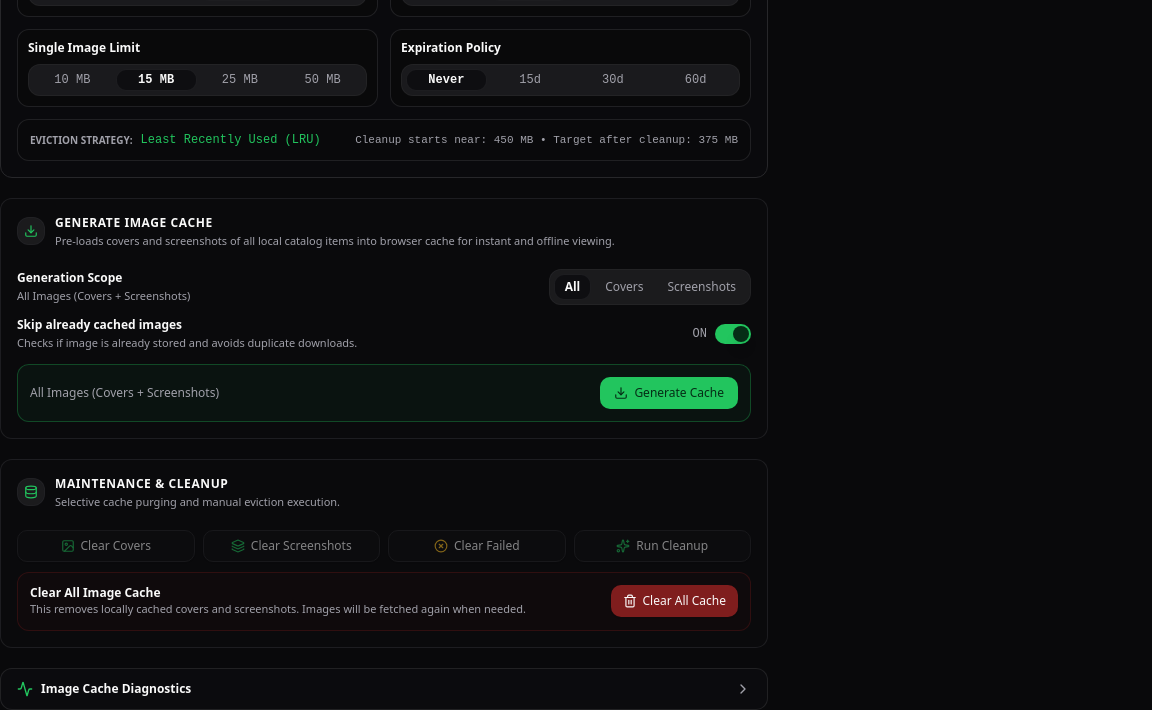
Test case: ImageSettings integration tests (V3-16) › opens confirmation dialog when clicking Clear All Cache
(page scrolled)
Click the button "Clear All Cache".
click(674, 601)  # box [610, 585, 738, 617]
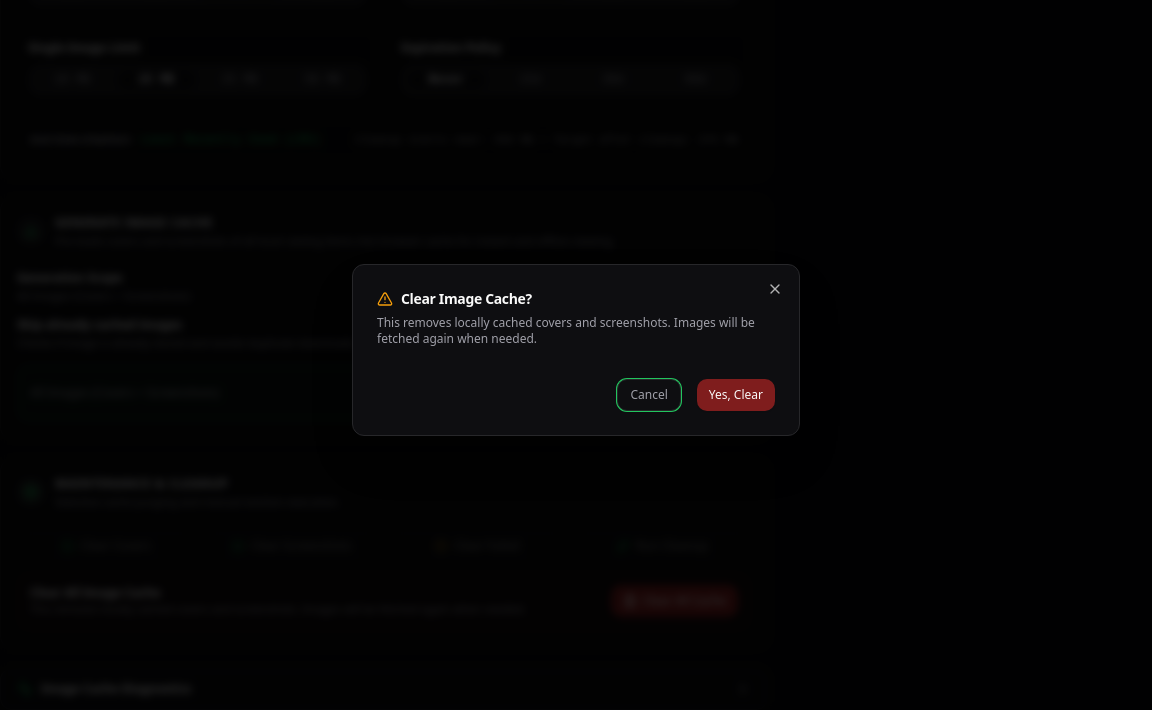
Check: the dialog is shown, box [352, 264, 800, 436]
Check: the heading "Clear Image Cache?" is shown, box [377, 289, 532, 308]
